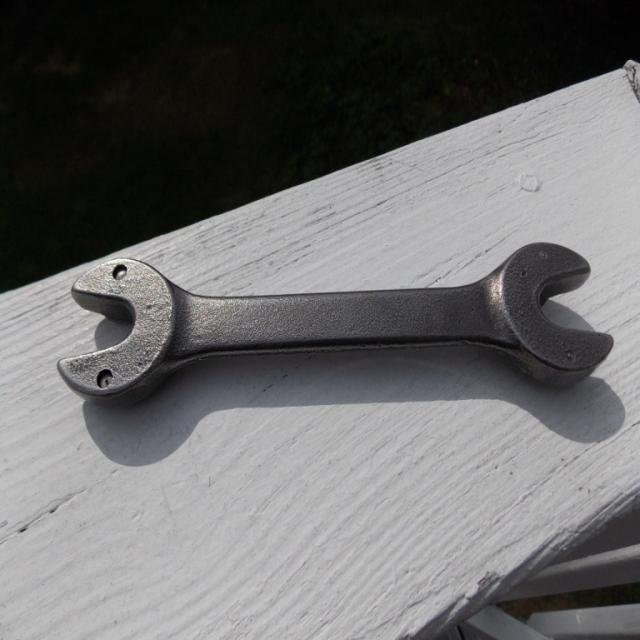wrench: (55, 237, 618, 401)
